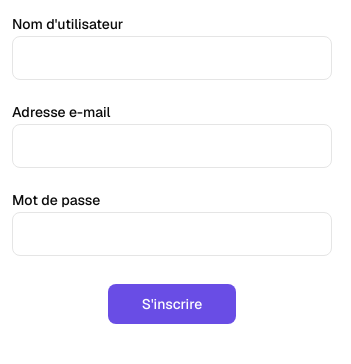
RegisterForm › refuse une adresse email invalide
Type "alice_dev" into the field labelled "Nom d'utilisateur" at {"x": 172, "y": 58}, box [12,36,332,80]
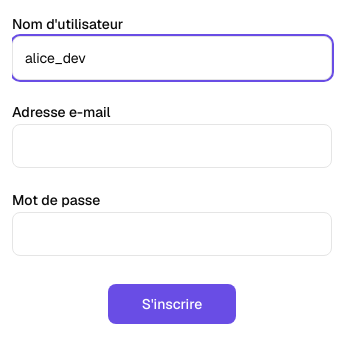
Type "alice@example.test" into the field labelled "Adresse e-mail" at {"x": 172, "y": 146}, box [12,124,332,168]
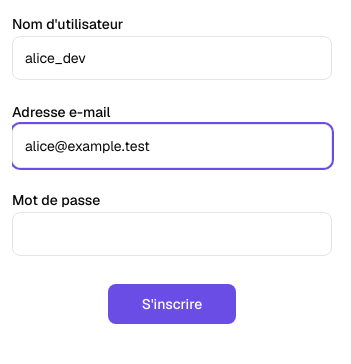
Type "PasswordDeTest123!" into the password field labelled "Mot de passe" at {"x": 172, "y": 234}, box [12,212,332,256]
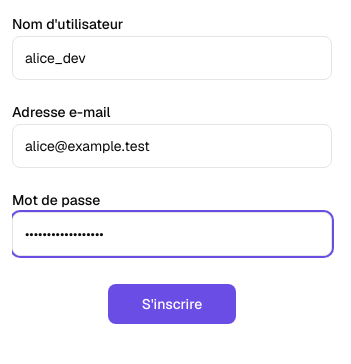
Replace the text in the field labelled "Adresse e-mail" with "adresse-invalide" at {"x": 172, "y": 146}, box [12,124,332,168]
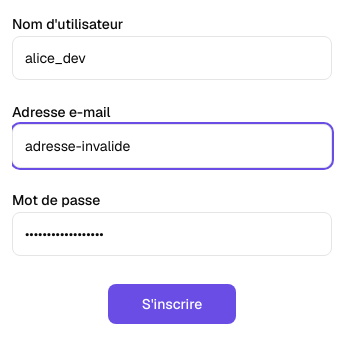
Click the button "S'inscrire" at {"x": 172, "y": 304}, box [108,284,236,324]
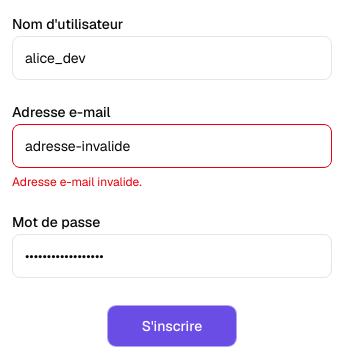
Expected: the text "Adresse e-mail invalide." is shown, [12,174,142,190]
